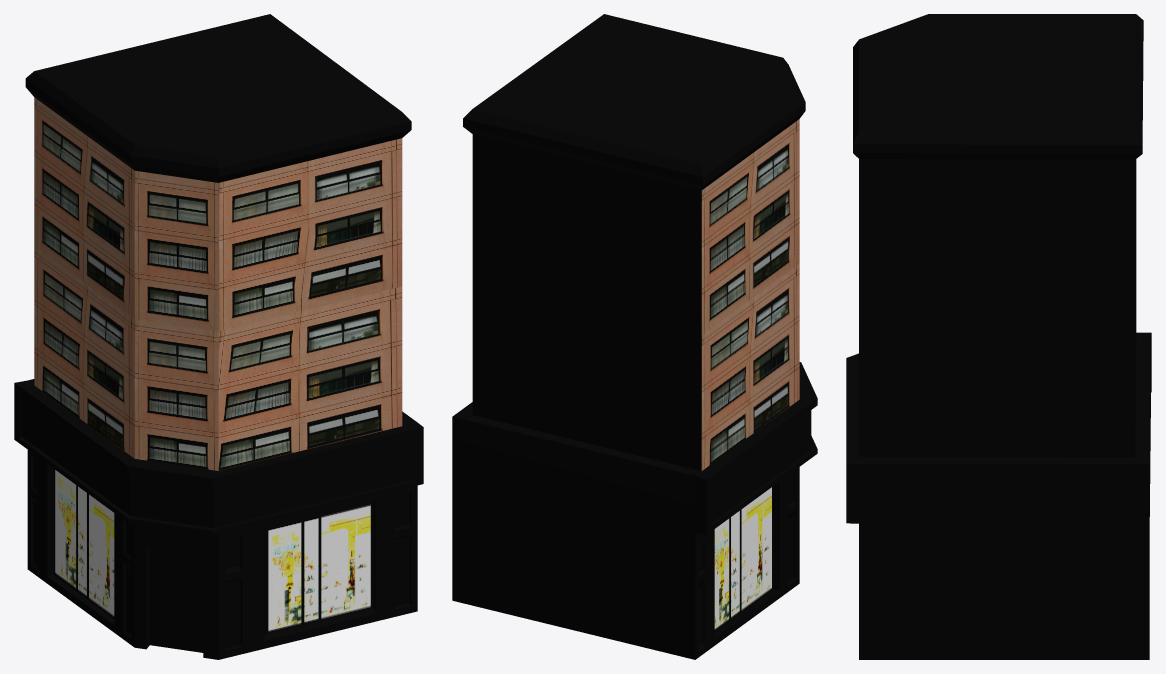
Rendered from house19.FBX.
3 renders of one model, left to right at view 1: azimuth 30°, elevation 25°; view 2: azimuth 150°, elevation 25°; view 3: azimuth 270°, elevation 25°, orthographic. The views are drawn at different scales.
Parts seen in each view (by area): view 1: Box001; view 2: Box001; view 3: Box001.
Boxes of the visible parts, x1,y1,x2,y2 form: Box001: (14, 14, 423, 659); Box001: (452, 14, 817, 659); Box001: (846, 14, 1151, 659).
Bounding box in the file's own units: 112 × 205 × 109.
